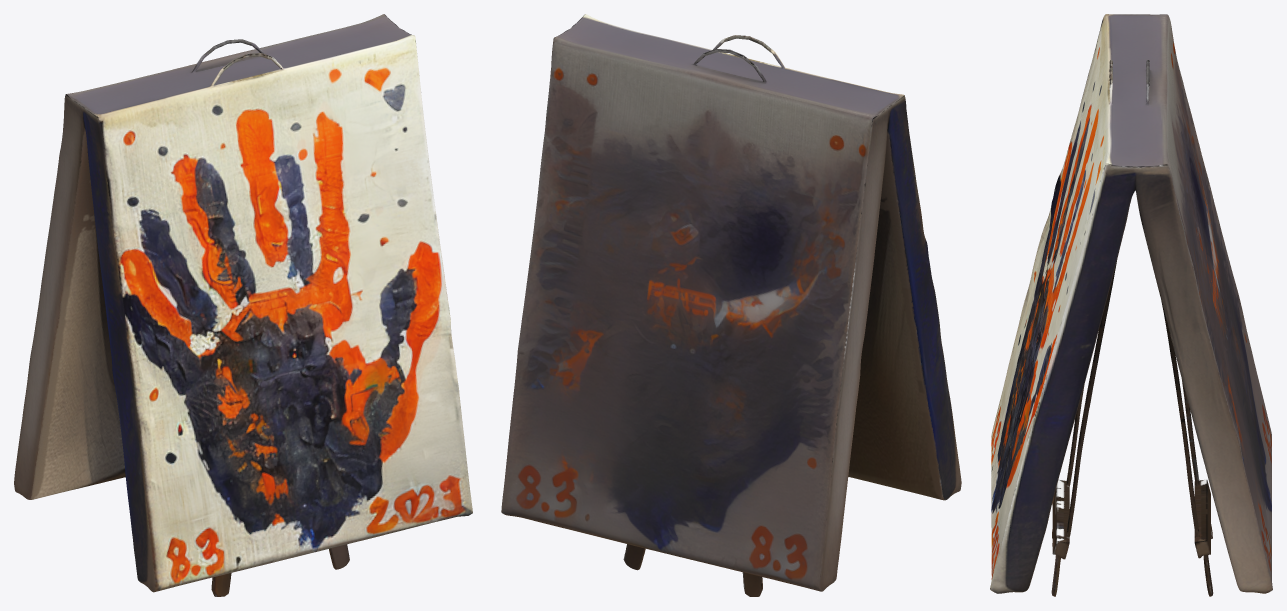
The model's file is canvas.glb.
The picture shows the model from 3 angles, left to right: view 1: azimuth 30°, elevation 25°; view 2: azimuth 150°, elevation 25°; view 3: azimuth 270°, elevation 25°; orthographic projection. The views are drawn at different scales.
Visible parts, largest first — view 1: model; view 2: model; view 3: model.
Part boxes in pixels (x1=…): model: x1=14, y1=14, x2=472, y2=596; model: x1=501, y1=14, x2=961, y2=596; model: x1=990, y1=14, x2=1272, y2=596.
Bounding box in the file's own units: 1.25 × 1.9 × 0.9701.
1 material, 1 textured.
